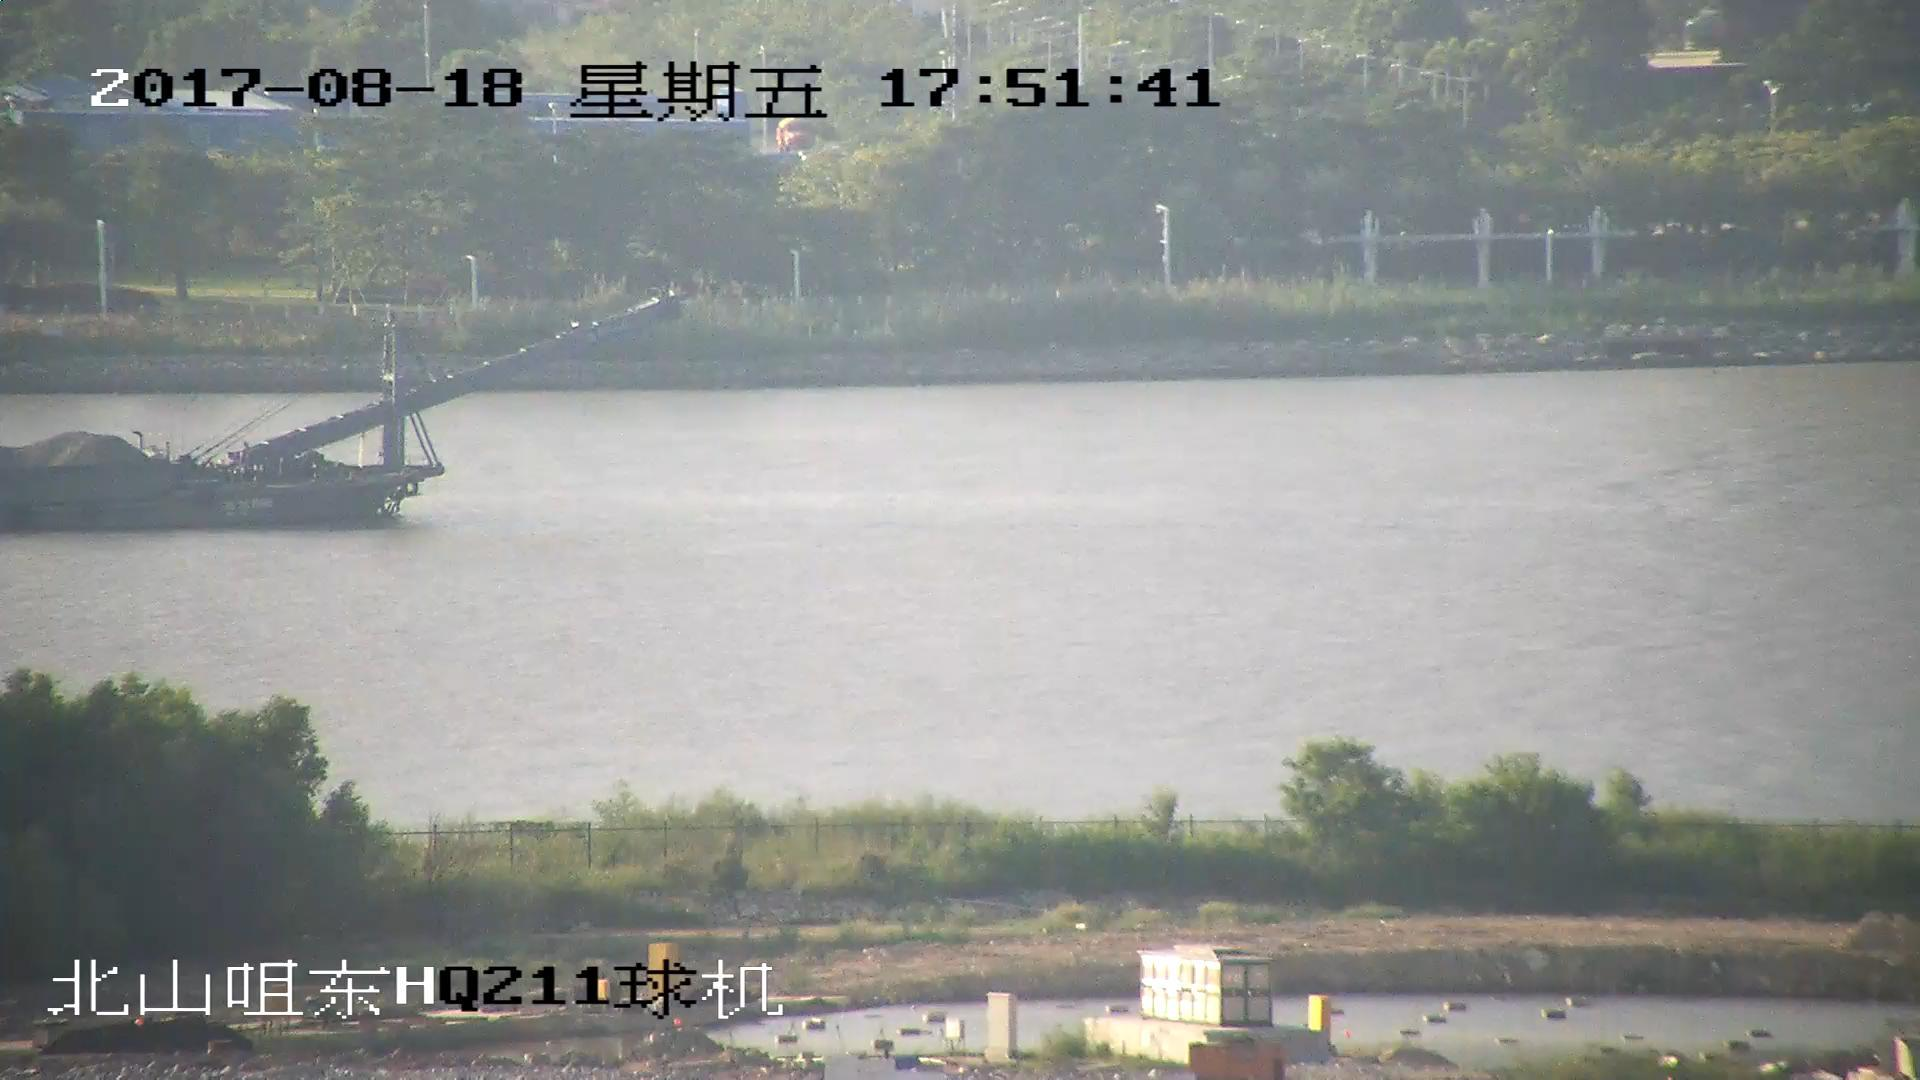Ship: (3, 295, 676, 531)
